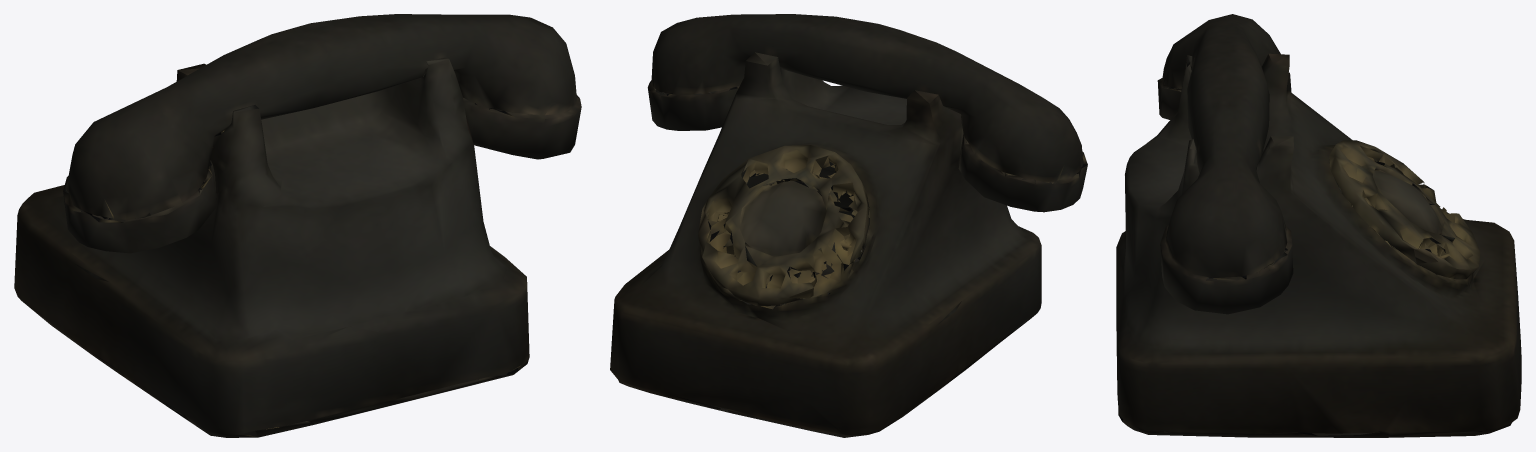
The model's file is rotary-phone.glb.
3 views of the same model, side by side, from view 1: azimuth 30°, elevation 25°; view 2: azimuth 150°, elevation 25°; view 3: azimuth 270°, elevation 25° (orthographic). The views are drawn at different scales.
Visible parts, largest first — view 1: LOD0; view 2: LOD0; view 3: LOD0.
Boxes of the visible parts, <box> form: LOD0: <box>14,14,581,437</box>; LOD0: <box>610,14,1087,437</box>; LOD0: <box>1116,14,1521,437</box>.
Size of the model in its own units: 0.2402 by 0.1598 by 0.19.
Materials: 1 (1 with a texture image).
